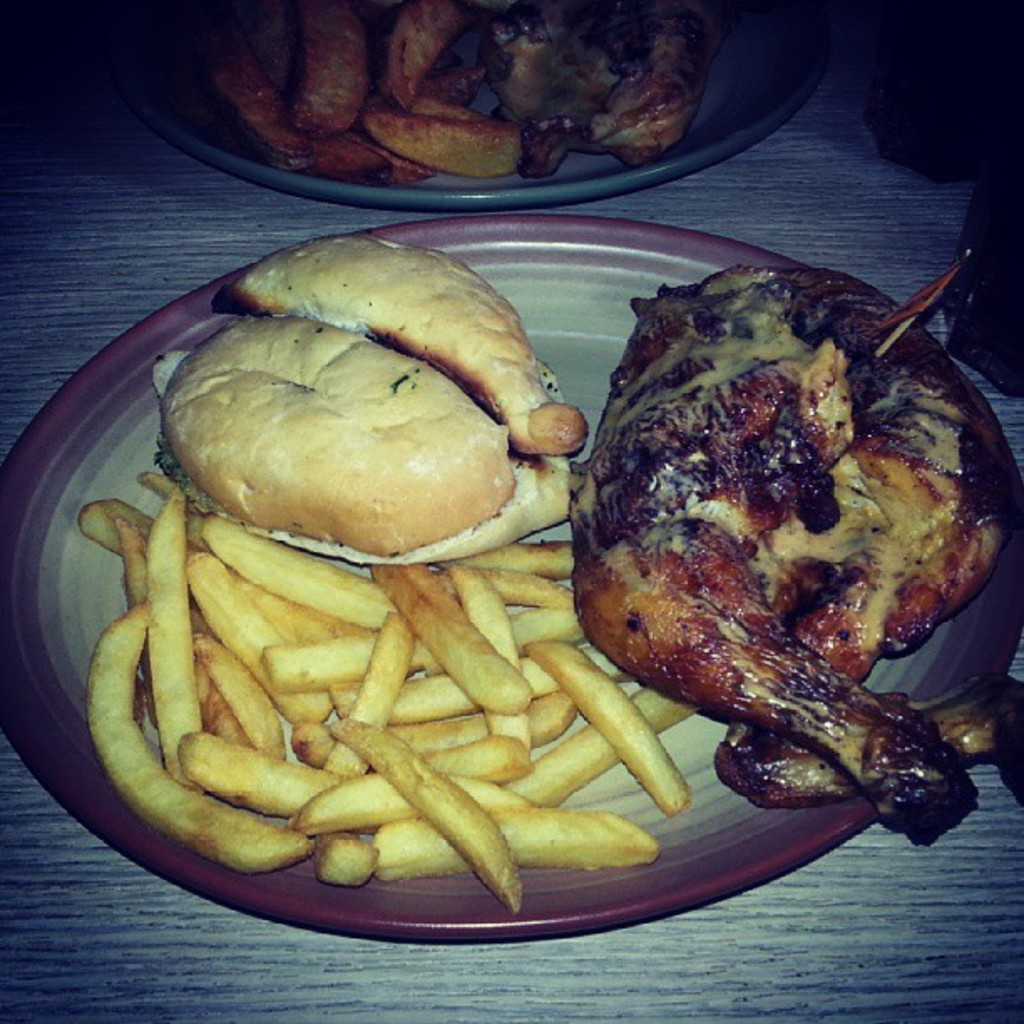French fries: (68, 498, 701, 893)
